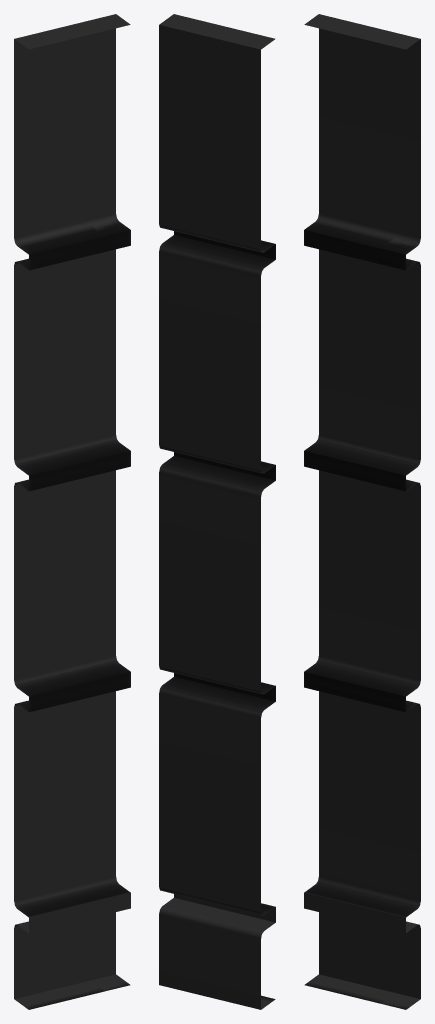
Rendered from EXT_MR_SW.fbx.
3 renders of one model, left to right at view 1: azimuth 30°, elevation 25°; view 2: azimuth 150°, elevation 25°; view 3: azimuth 330°, elevation 25°, orthographic.
Parts seen in each view (by area): view 1: EXT_MR_SW; view 2: EXT_MR_SW; view 3: EXT_MR_SW.
Part boxes in pixels (bbox=[...]): EXT_MR_SW: bbox=[14, 14, 130, 1009]; EXT_MR_SW: bbox=[159, 14, 275, 1009]; EXT_MR_SW: bbox=[304, 14, 420, 1009].
Size of the model in its own units: 0.5 by 4.5 by 0.125.
